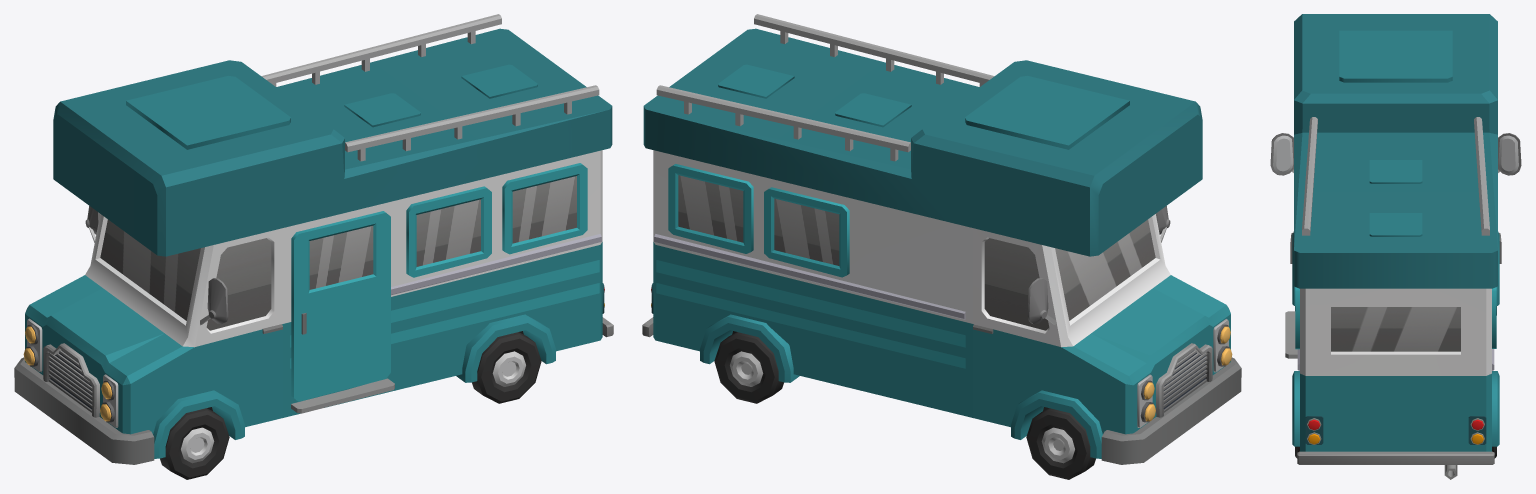
Rendered from RVCar_C.gltf.
3 renders of one model, left to right at view 1: azimuth 30°, elevation 25°; view 2: azimuth 150°, elevation 25°; view 3: azimuth 270°, elevation 25°, orthographic. The views are drawn at different scales.
Parts seen in each view (by area): view 1: RVCar_C, RL, FL; view 2: RVCar_C, RR, FR; view 3: RVCar_C.
Part boxes in pixels (x1,y1,x2,y2): RVCar_C: [14, 14, 613, 464]; RL: [472, 332, 541, 403]; FL: [160, 408, 229, 479]; RVCar_C: [642, 14, 1241, 464]; RR: [714, 332, 783, 403]; FR: [1026, 408, 1095, 479]; RVCar_C: [1270, 14, 1521, 479].
Size of the model in its own units: 4.14 by 2.46 by 1.94.
Materials: 4 (4 with a texture image).
